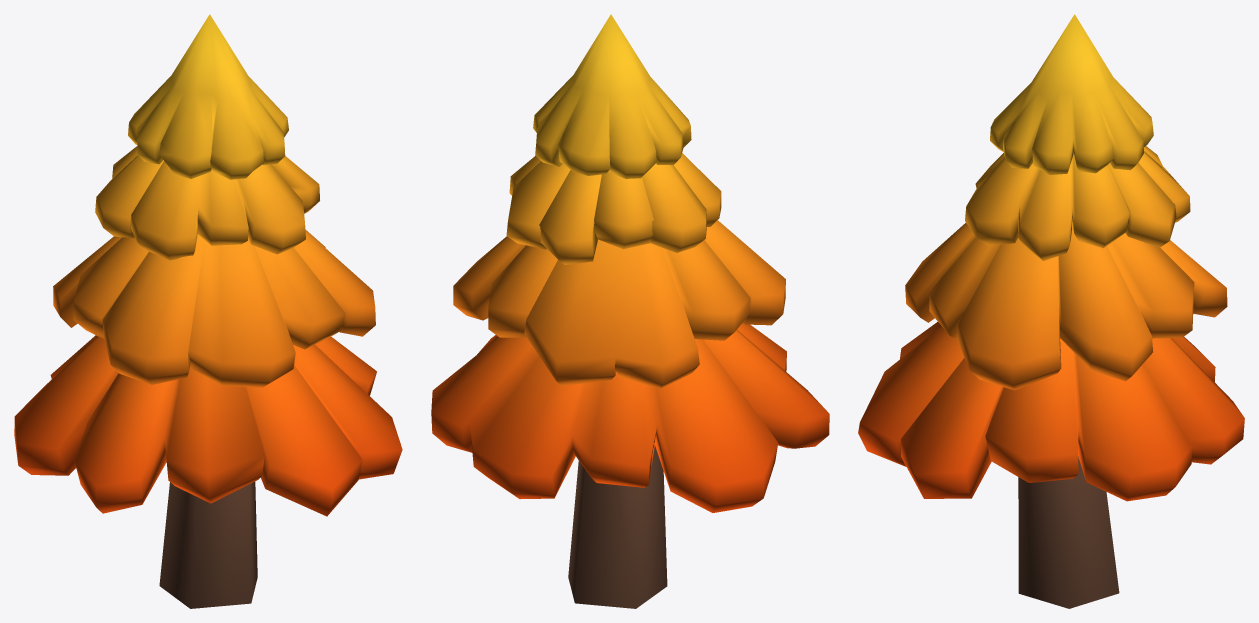
The model's file is Tree2.fbx.
The picture shows the model from 3 angles, left to right: view 1: azimuth 30°, elevation 25°; view 2: azimuth 150°, elevation 25°; view 3: azimuth 270°, elevation 25°; orthographic projection.
Parts seen in each view (by area): view 1: Tree2; view 2: Tree2; view 3: Tree2.
Part boxes in pixels (box(x1,y1,x2,y2)): Tree2: box(14, 14, 402, 608); Tree2: box(431, 14, 829, 608); Tree2: box(858, 14, 1244, 608).
Bounding box in the file's own units: 637 × 1087 × 665.
